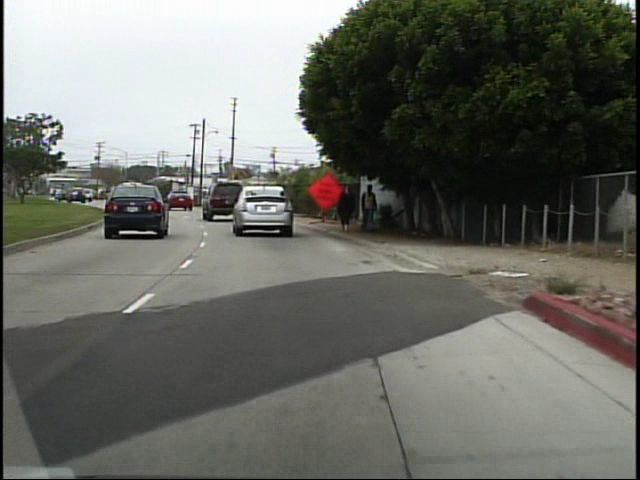person: (332, 178, 360, 237), (356, 182, 380, 237)
